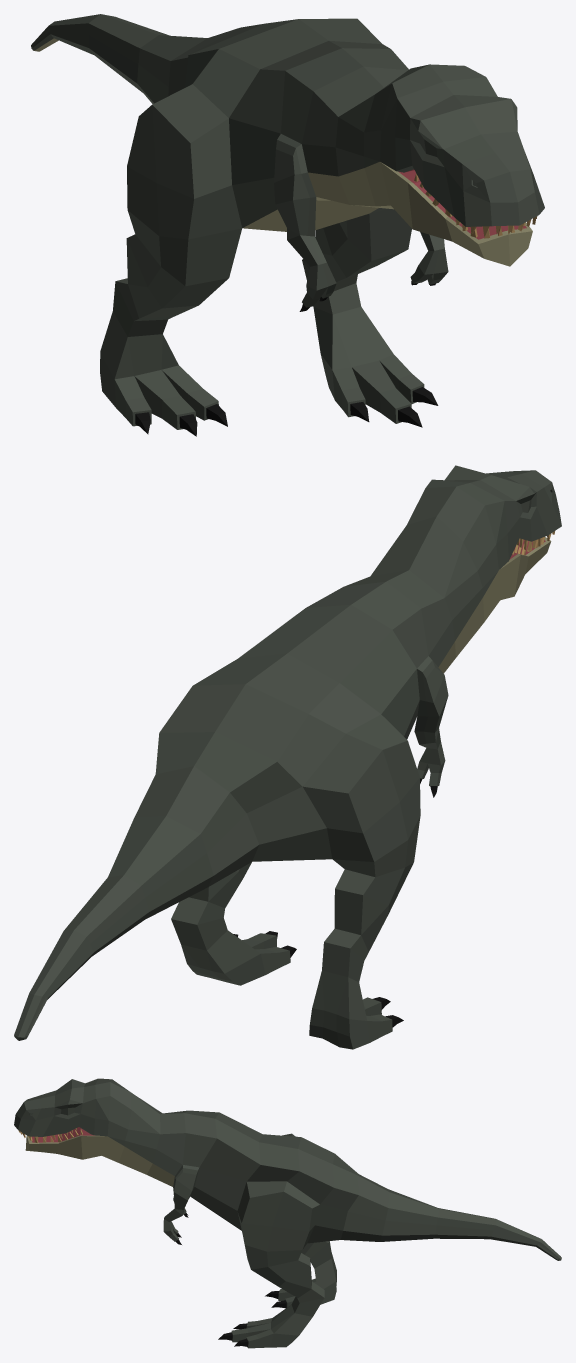
Rendered from Trex.glb.
The picture shows the model from 3 angles, top to bottom: view 1: azimuth 30°, elevation 25°; view 2: azimuth 150°, elevation 25°; view 3: azimuth 270°, elevation 25°; orthographic projection. The views are drawn at different scales.
Visible parts, largest first — view 1: Trex_Cylinder; view 2: Trex_Cylinder; view 3: Trex_Cylinder.
Part boxes in pixels (x1,y1,x2,y2): Trex_Cylinder: (31,14,544,436); Trex_Cylinder: (14,465,561,1049); Trex_Cylinder: (14,1078,561,1348).
Size of the model in its own units: 7.96 by 14.68 by 30.87.
